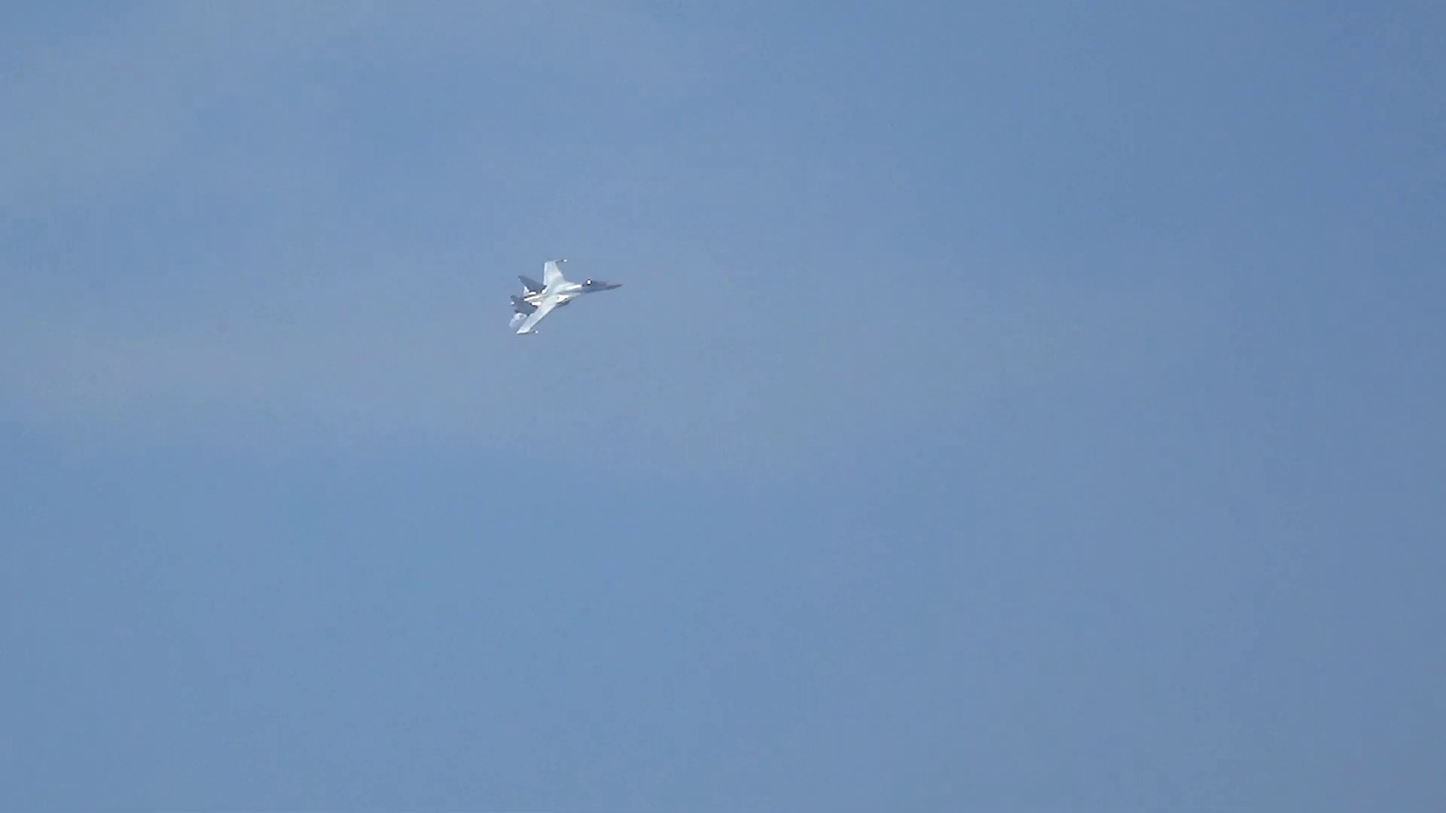Su35: (509, 258, 623, 336)
